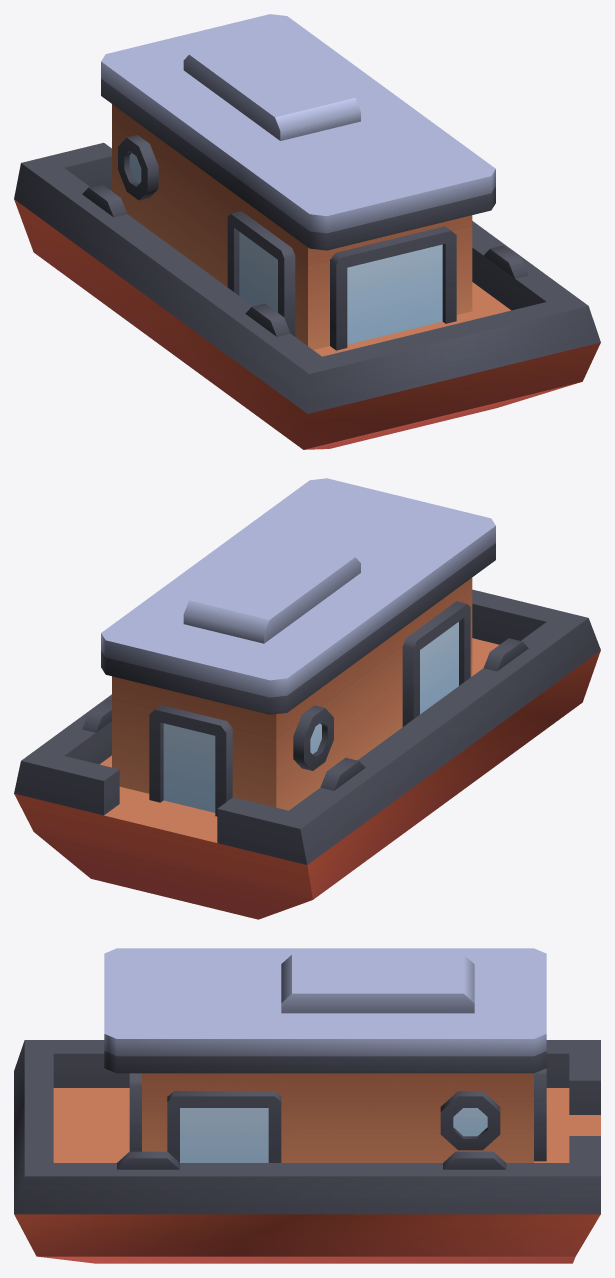
The model's file is boat-house-a-transformed-transformed.glb.
The picture shows the model from 3 angles, top to bottom: view 1: azimuth 30°, elevation 25°; view 2: azimuth 150°, elevation 25°; view 3: azimuth 270°, elevation 25°; orthographic projection.
Visible parts, largest first — view 1: boat-house-a; view 2: boat-house-a; view 3: boat-house-a.
Part boxes in pixels (bbox=[...]): boat-house-a: bbox=[14, 14, 600, 449]; boat-house-a: bbox=[14, 478, 600, 919]; boat-house-a: bbox=[14, 948, 600, 1263].
Bounding box in the file's own units: 2.68 × 2.17 × 4.64.
1 material, 1 textured.
